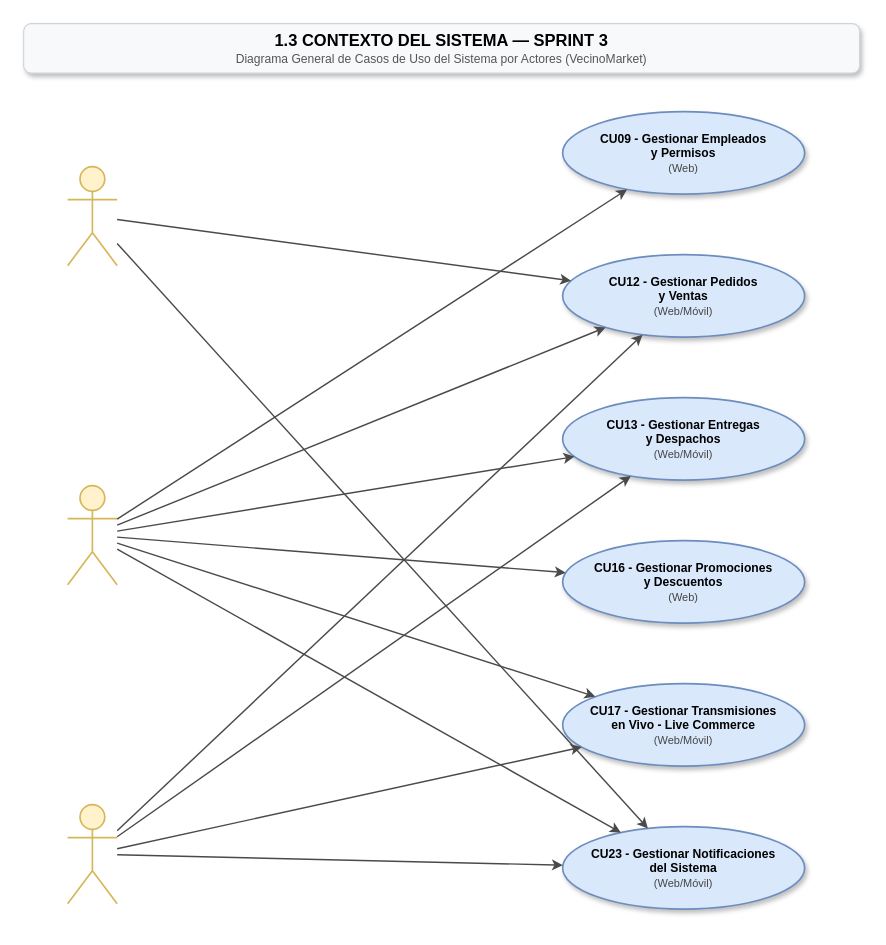
Image size: 886x945. Some labels were removed from this diagram. Here are the shapes that lost their labels. From the top down, the centre of each, then its label:
(x=91, y=215): ADMINISTRADOR
(x=91, y=534): EMPRESA
(x=91, y=853): COMPRADOR
